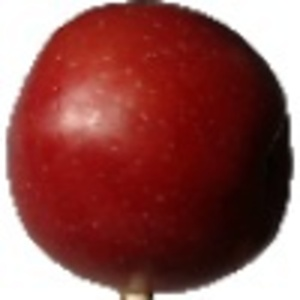maçã braeburn: (4, 1, 292, 293)
